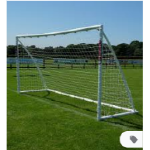goals: (15, 23, 138, 120)
